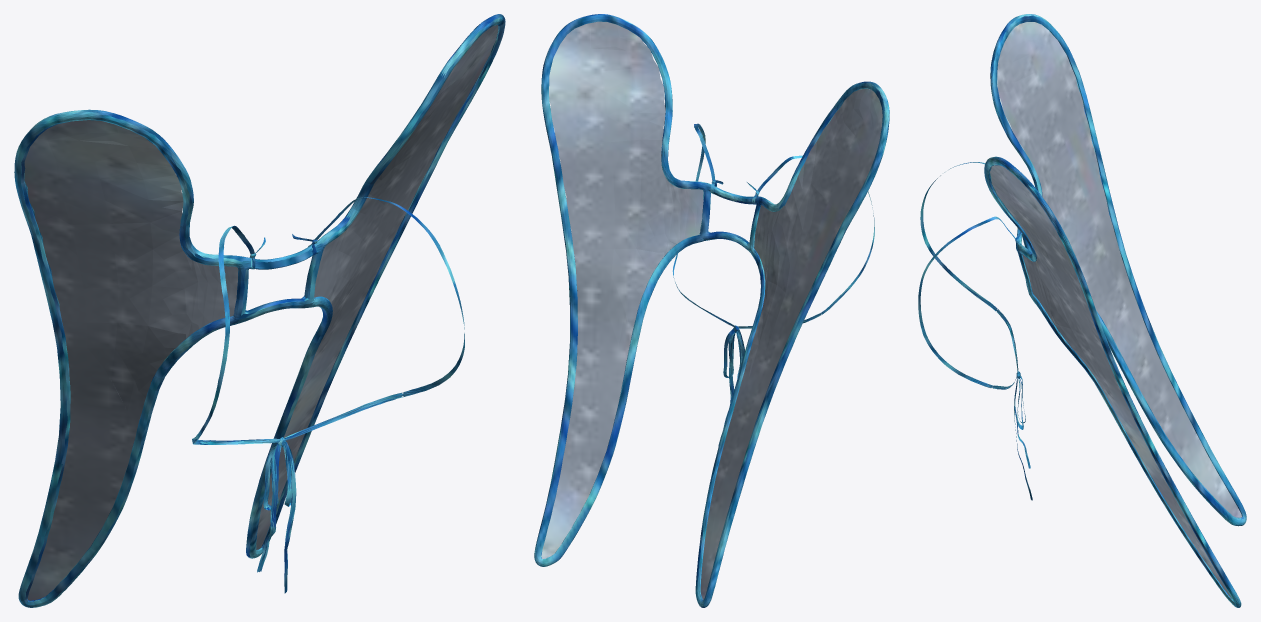
File: mhw_elvs_childrens_costume_wings1.glb
3 renders of one model, left to right at view 1: azimuth 30°, elevation 25°; view 2: azimuth 150°, elevation 25°; view 3: azimuth 270°, elevation 25°, orthographic. The views are drawn at different scales.
Visible parts, largest first — view 1: mhw_elvs_childrens_costume_wings1; view 2: mhw_elvs_childrens_costume_wings1; view 3: mhw_elvs_childrens_costume_wings1.
Part boxes in pixels (x1,y1,x2,y2): mhw_elvs_childrens_costume_wings1: (14, 14, 505, 607); mhw_elvs_childrens_costume_wings1: (534, 14, 889, 607); mhw_elvs_childrens_costume_wings1: (918, 14, 1246, 607).
Bounding box in the file's own units: 0.6569 × 0.8341 × 0.5229.
1 material, 1 textured.
